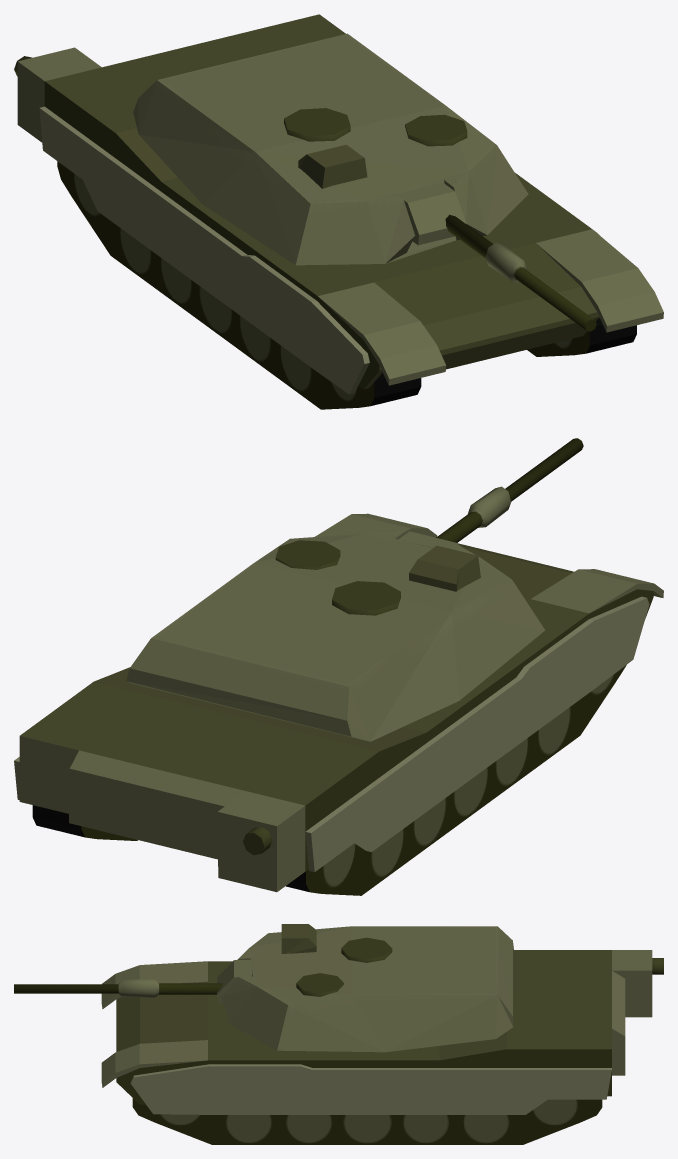
The model's file is M1Abrams.DAE.
3 renders of one model, top to bottom at view 1: azimuth 30°, elevation 25°; view 2: azimuth 150°, elevation 25°; view 3: azimuth 270°, elevation 25°, orthographic. The views are drawn at different scales.
Parts seen in each view (by area): view 1: M1Abrams; view 2: M1Abrams; view 3: M1Abrams.
Boxes of the visible parts, bbox=[...] form: M1Abrams: bbox=[14, 14, 663, 409]; M1Abrams: bbox=[14, 438, 663, 895]; M1Abrams: bbox=[14, 924, 663, 1144].
Bounding box in the file's own units: 1070 × 698 × 2850.
1 material, 1 textured.
